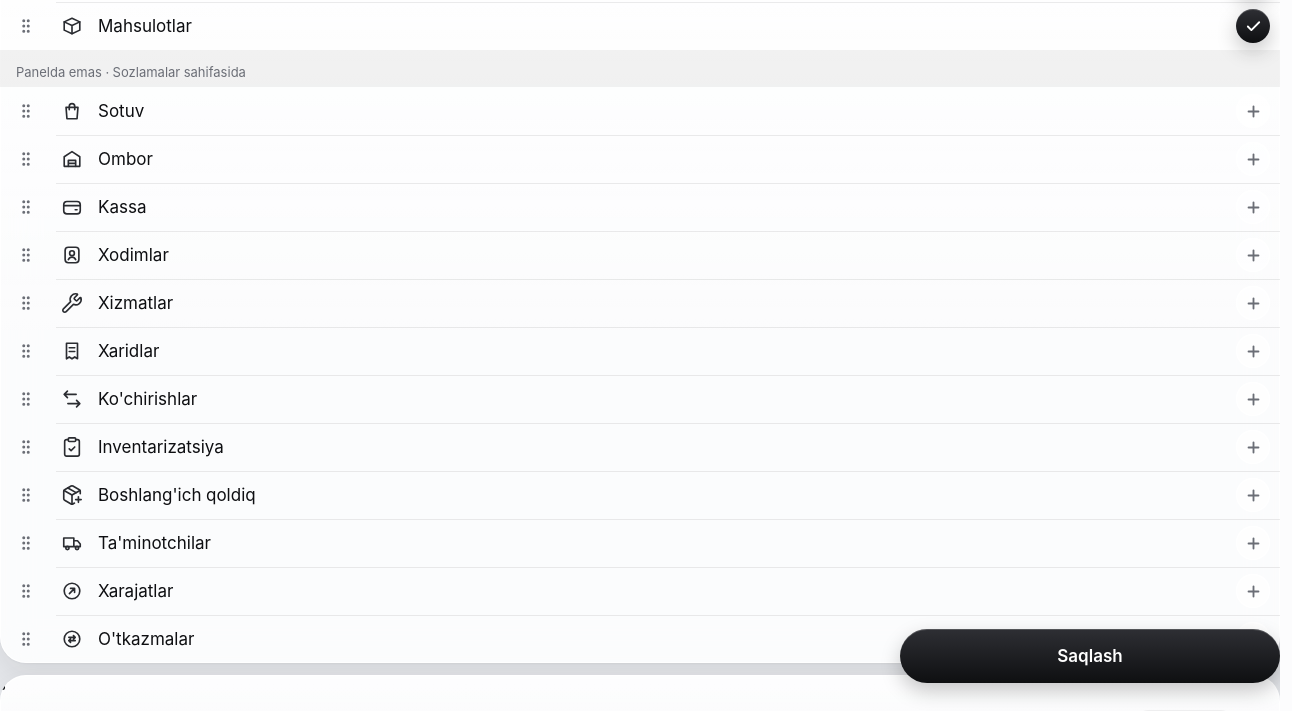
Test: «Saqlash» keeps the bar's four pages, says so and goes back to the settings
(page scrolled)
Click the button named "Panelga qo'shish: Xaridlar": x=1253, y=351 [1236, 334, 1270, 368]
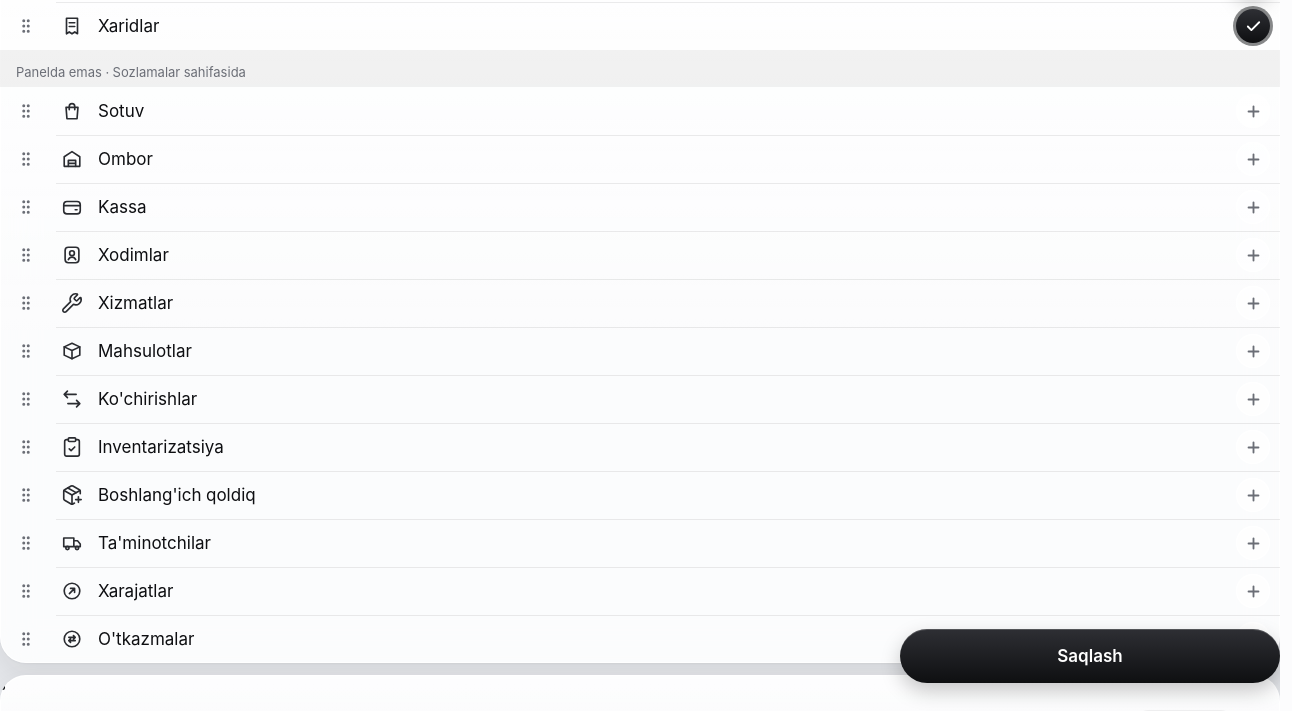
Click the button "Saqlash": x=1090, y=656 [900, 629, 1280, 683]
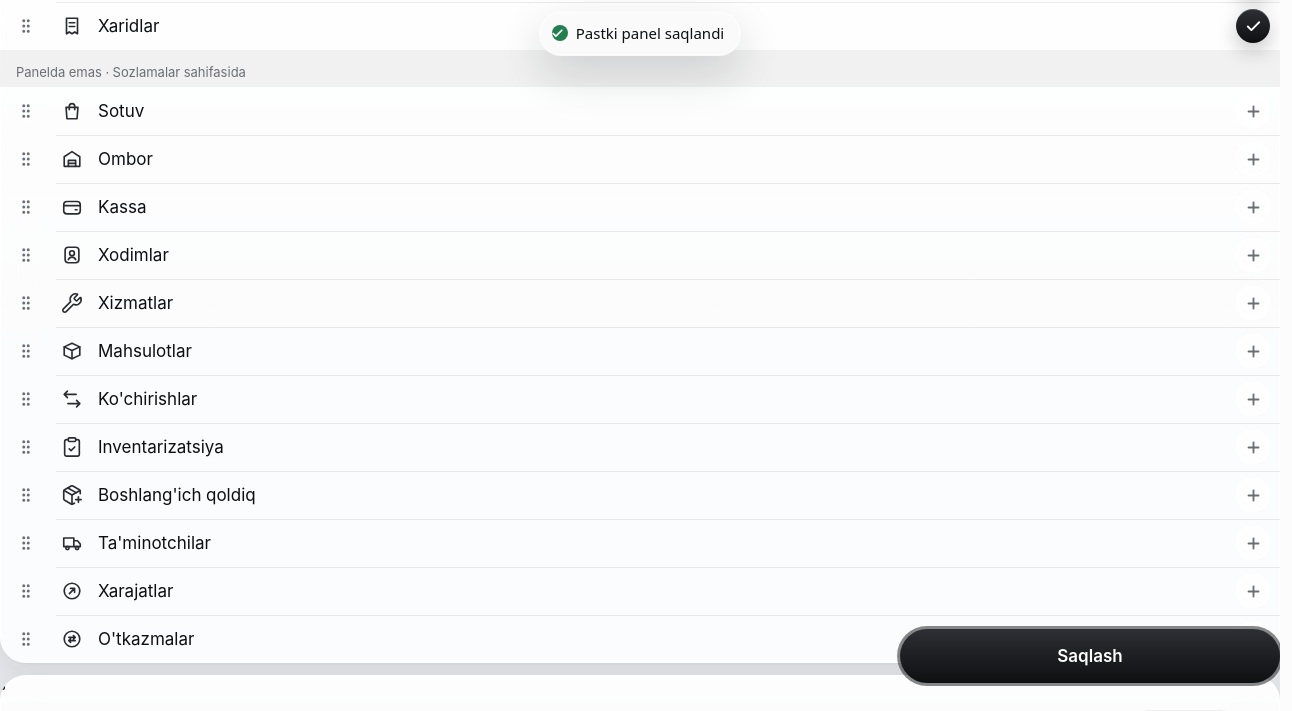
Check: the text "Pastki panel saqlandi" is shown, box [576, 22, 724, 44]
